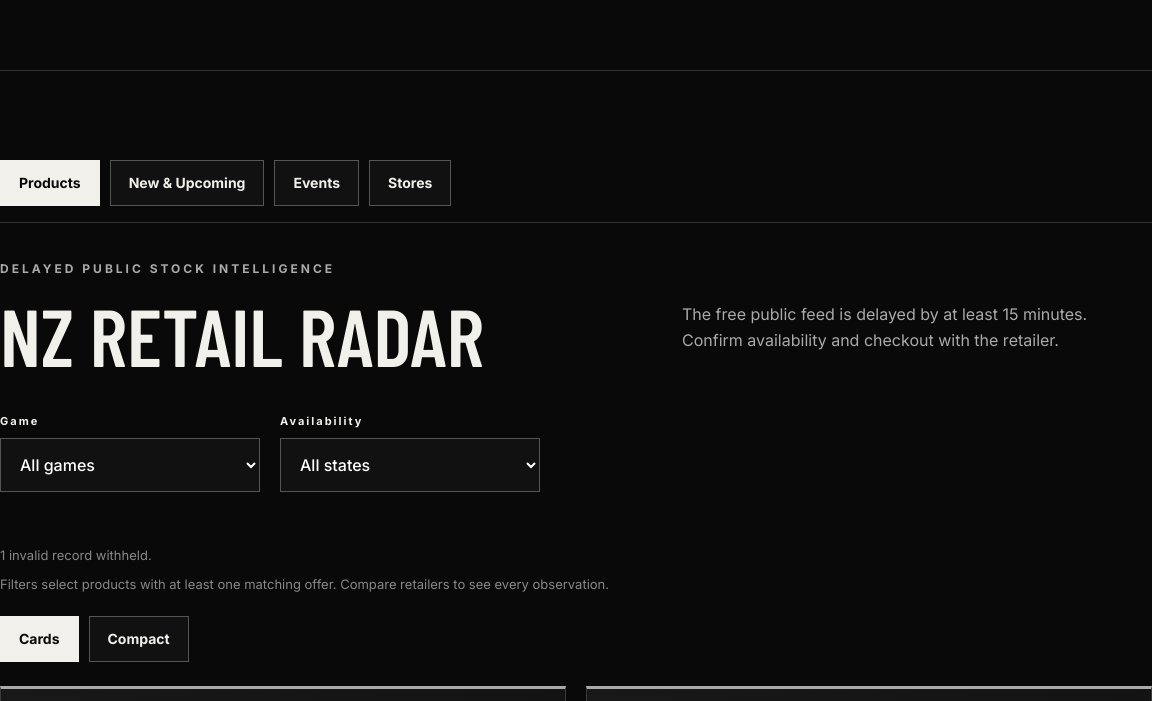
Test: TcgRadar › keeps Events filters and rejected-record counts separate from stock
The width and height of the screenshot is (1152, 701).
Click the button "Events".
click(317, 183)  # box 274,160 -> 359,206
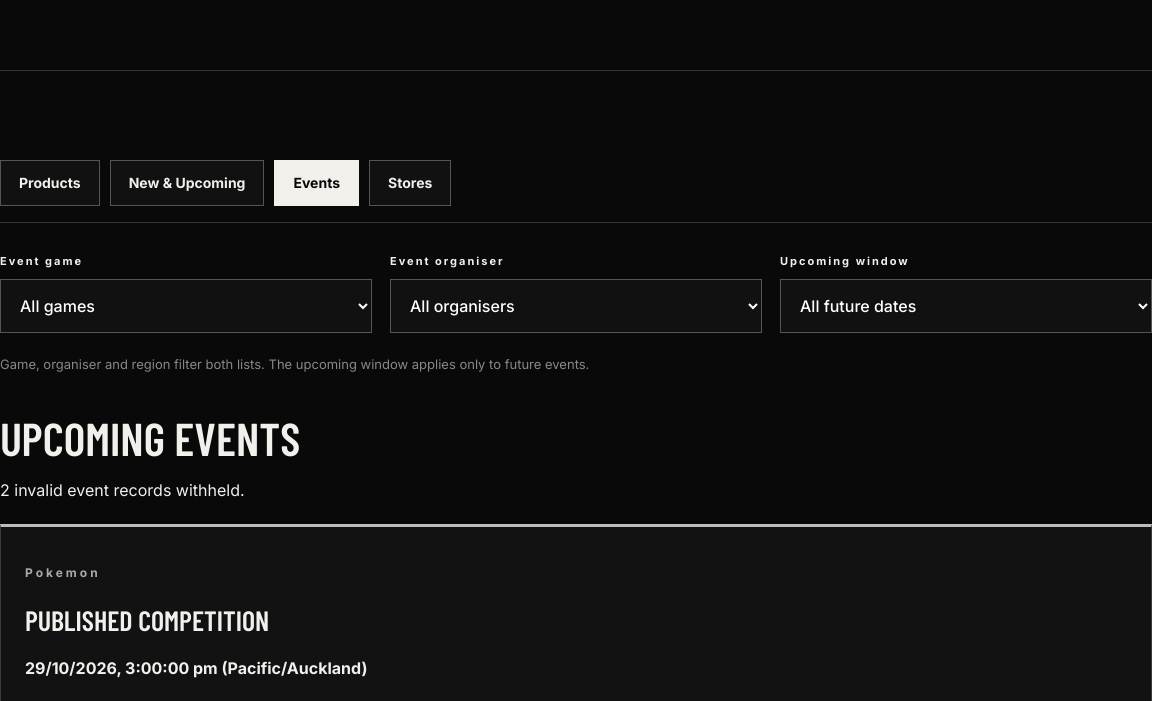
Check: the text "2 invalid event records withheld." is shown, box 0,480 -> 245,500
Select "Test Organiser A" in the dropdown labelled "Event organiser" at {"x": 576, "y": 306}, box 390,279 -> 762,333
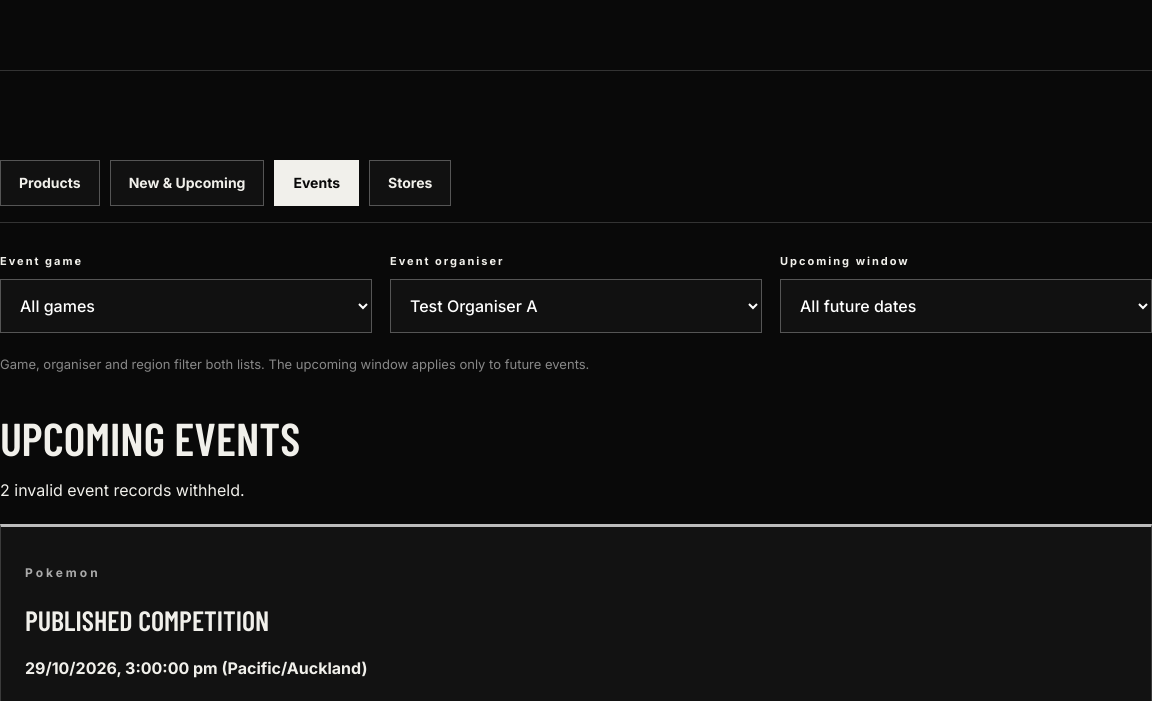
Select "Next 7 days" in the dropdown labelled "Upcoming window" at {"x": 966, "y": 306}, box 780,279 -> 1151,333
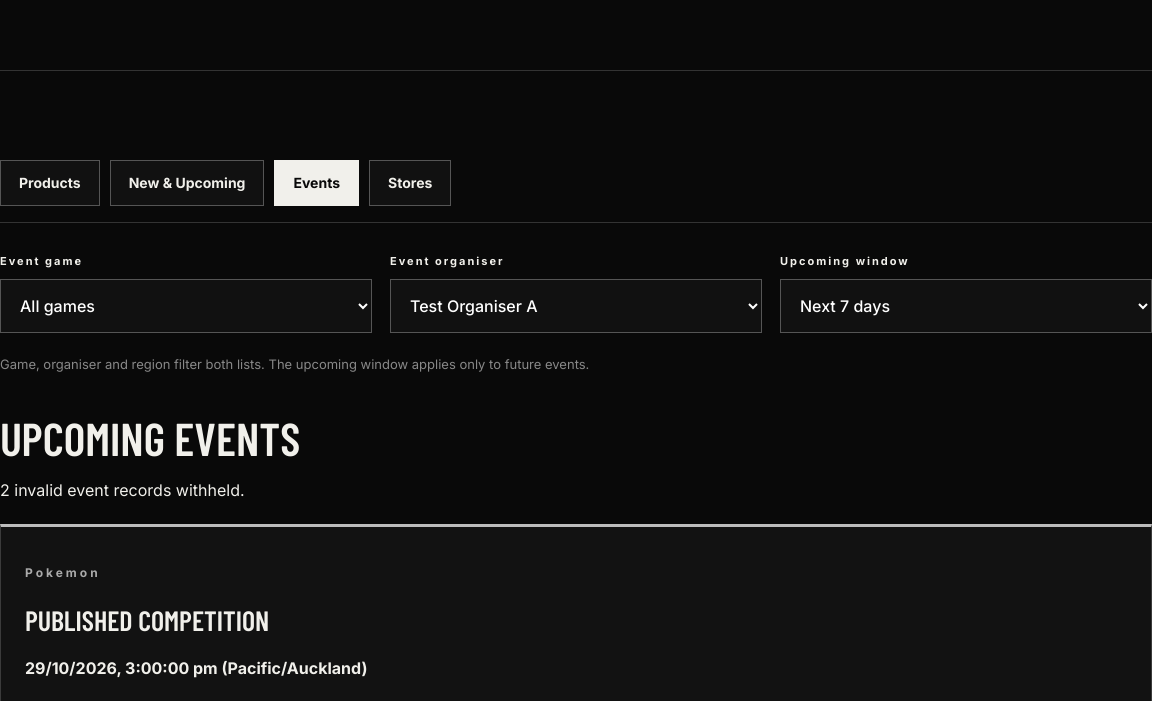
Check: the heading "Published competition" is shown, box 25,603 -> 269,637
Click the button "Products".
click(50, 183)  # box 0,160 -> 100,206
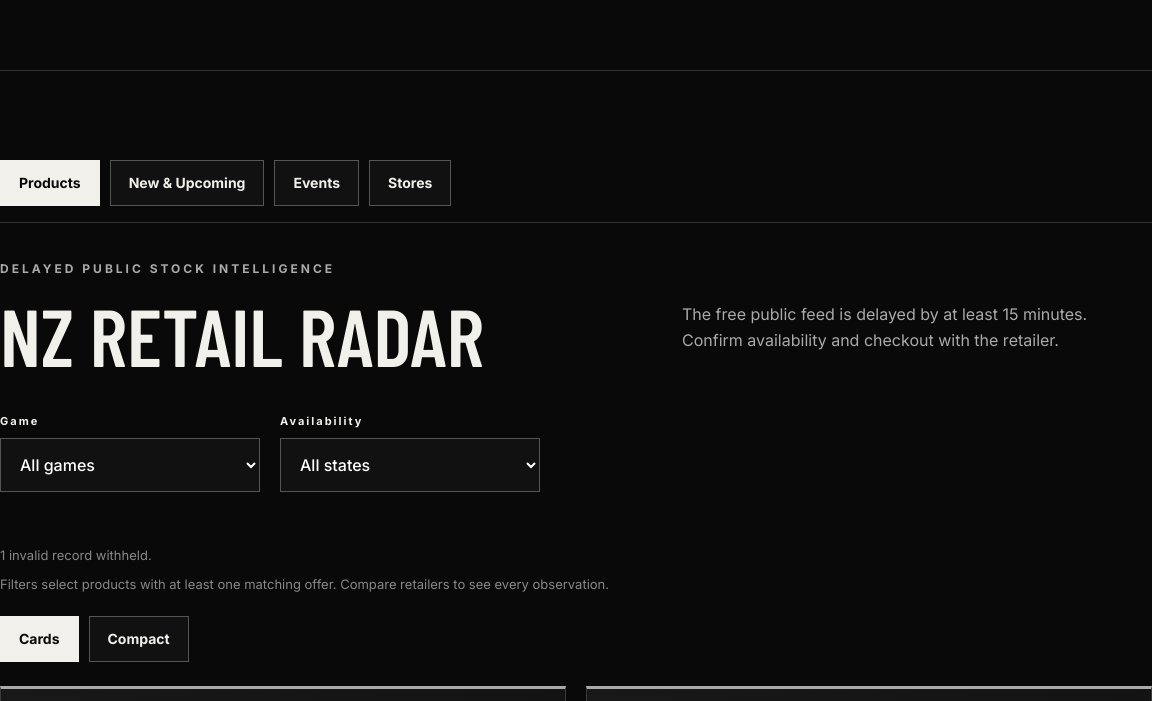
Check: the text "1 invalid record withheld." is shown, box 0,547 -> 152,563
Check: the text "invalid event records" is gone
